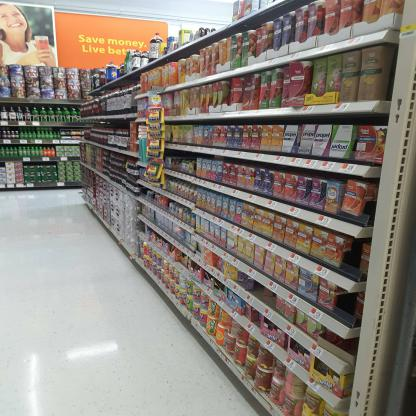Void: (250, 283, 276, 306), (346, 237, 363, 272), (341, 289, 357, 322), (164, 149, 196, 158)
